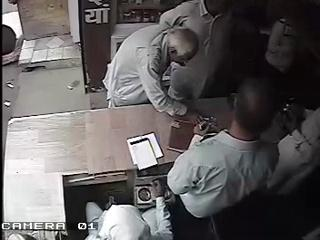Normal: (166, 77, 319, 239), (102, 23, 202, 120), (158, 0, 236, 103)
